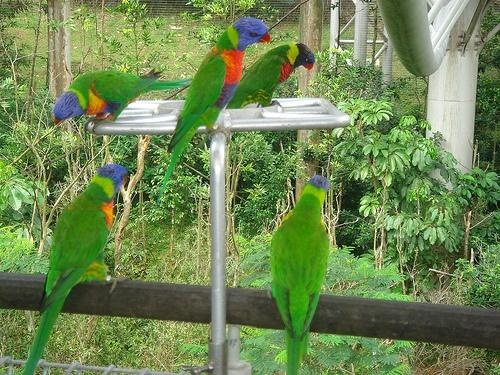bird: (21, 164, 128, 375), (158, 18, 271, 199), (271, 174, 332, 375), (55, 70, 194, 124), (226, 43, 315, 110)
